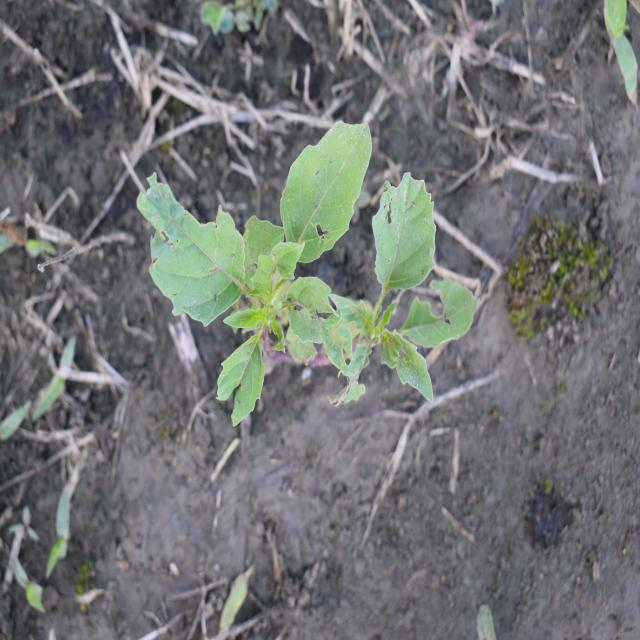CutleafGroundcherry: (135, 116, 482, 430)
